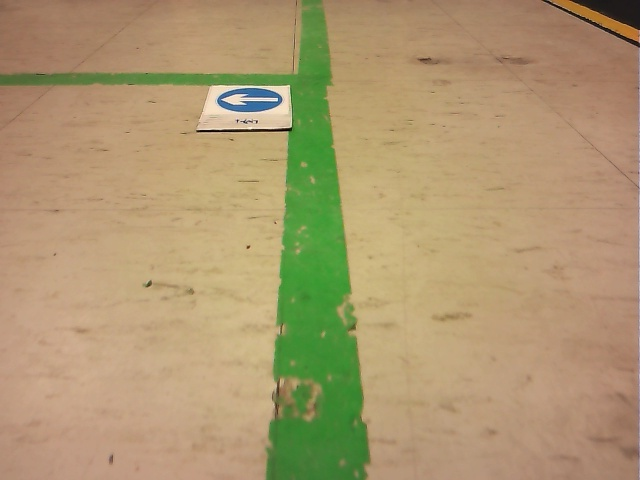TURN LEFT: (215, 87, 283, 112)
